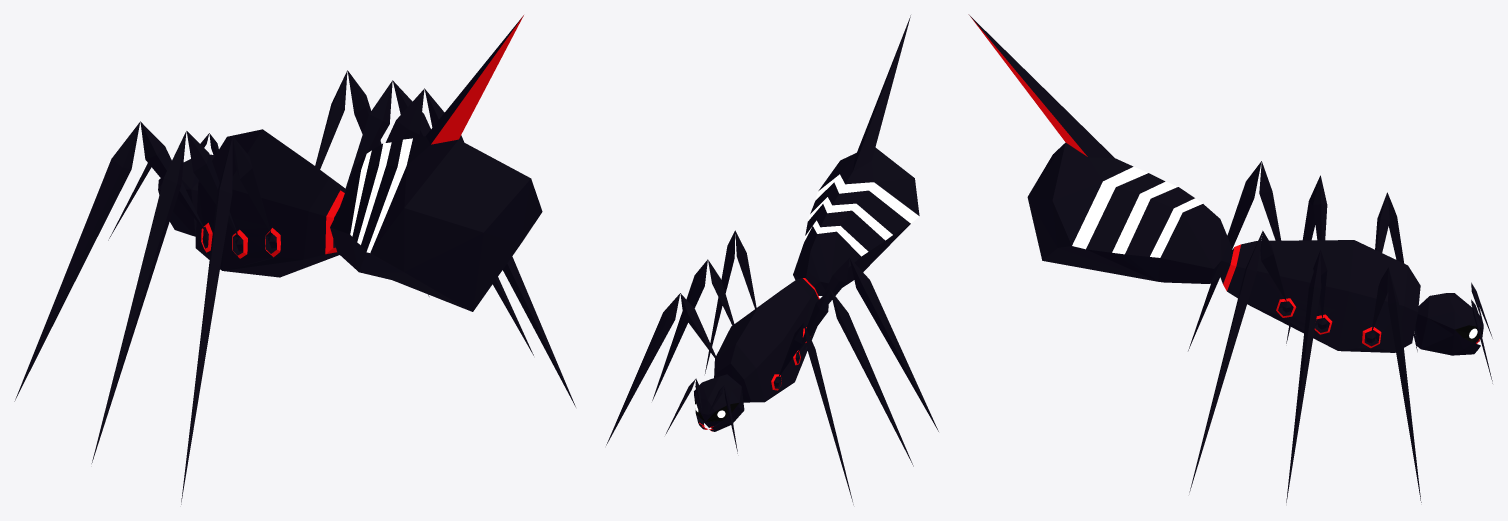
File: Ant.glb
The picture shows the model from 3 angles, left to right: view 1: azimuth 30°, elevation 25°; view 2: azimuth 150°, elevation 25°; view 3: azimuth 270°, elevation 25°; orthographic projection. The views are drawn at different scales.
Parts seen in each view (by area): view 1: Ant; view 2: Ant; view 3: Ant.
Boxes of the visible parts, x1,y1,x2,y2 form: Ant: [14, 15, 575, 504]; Ant: [606, 15, 938, 504]; Ant: [968, 14, 1492, 502].
Bounding box in the file's own units: 0.1626 × 0.1961 × 0.2249.
